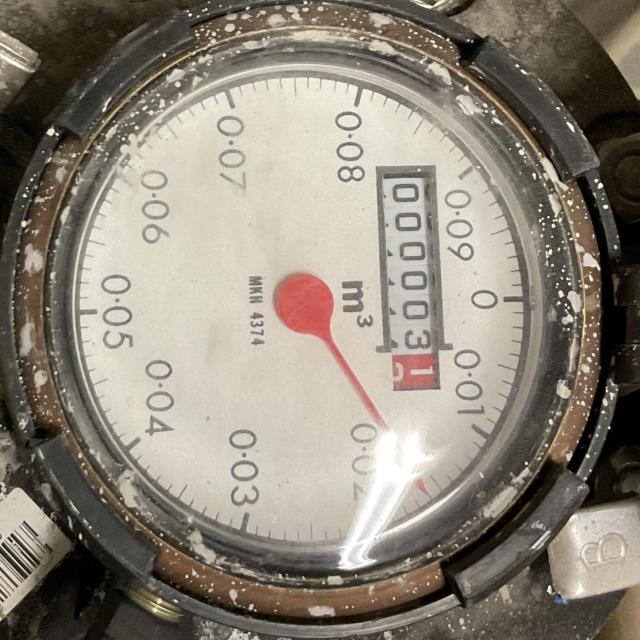gaz_meter: (61, 59, 549, 554)
indication: (380, 172, 444, 390)
